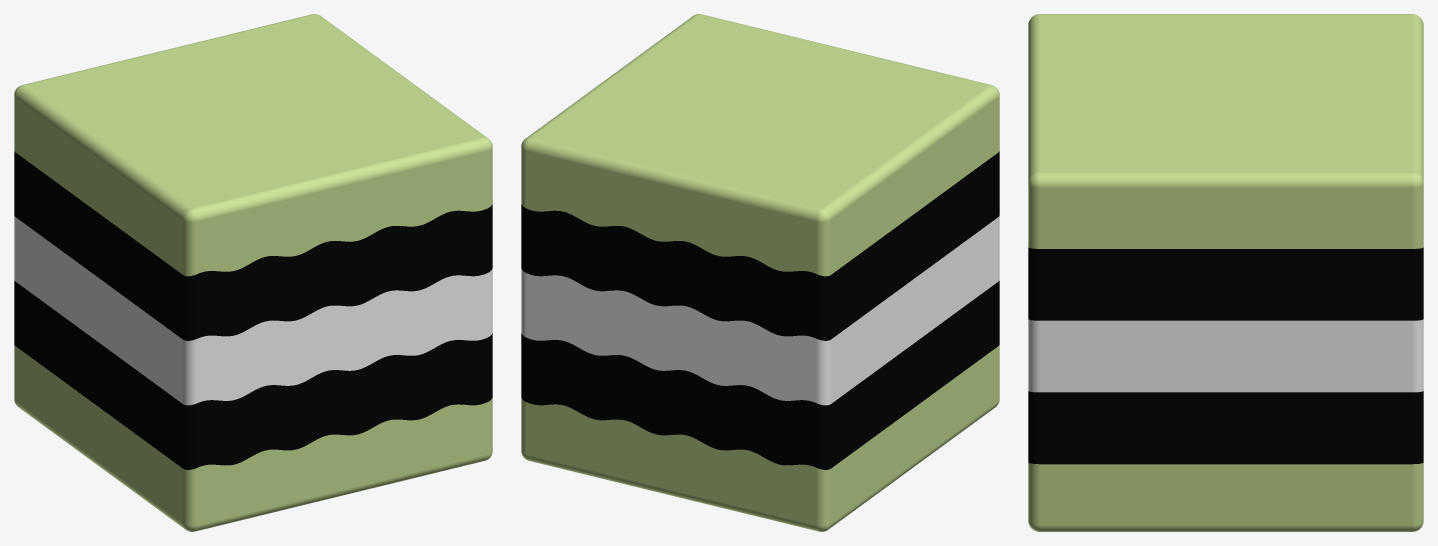
File: liquorice_allsort_box_and_lid_100_v7_green.glb
3 renders of one model, left to right at view 1: azimuth 30°, elevation 25°; view 2: azimuth 150°, elevation 25°; view 3: azimuth 270°, elevation 25°, orthographic. The views are drawn at different scales.
Visible parts, largest first — view 1: liquorice_allsort_box_and_lid_100_v7_5, liquorice_allsort_box_and_lid_100_v7_4, liquorice_allsort_box_and_lid_100_v7_2, liquorice_allsort_box_and_lid_100_v7_3, liquorice_allsort_box_and_lid_100_v7_1; view 2: liquorice_allsort_box_and_lid_100_v7_5, liquorice_allsort_box_and_lid_100_v7_4, liquorice_allsort_box_and_lid_100_v7_2, liquorice_allsort_box_and_lid_100_v7_3, liquorice_allsort_box_and_lid_100_v7_1; view 3: liquorice_allsort_box_and_lid_100_v7_5, liquorice_allsort_box_and_lid_100_v7_3, liquorice_allsort_box_and_lid_100_v7_2, liquorice_allsort_box_and_lid_100_v7_4, liquorice_allsort_box_and_lid_100_v7_1.
Part boxes in pixels (x1=…): liquorice_allsort_box_and_lid_100_v7_5: x1=14, y1=14, x2=492, y2=276; liquorice_allsort_box_and_lid_100_v7_4: x1=14, y1=151, x2=492, y2=340; liquorice_allsort_box_and_lid_100_v7_2: x1=14, y1=280, x2=492, y2=469; liquorice_allsort_box_and_lid_100_v7_3: x1=14, y1=216, x2=492, y2=405; liquorice_allsort_box_and_lid_100_v7_1: x1=14, y1=345, x2=492, y2=531; liquorice_allsort_box_and_lid_100_v7_5: x1=521, y1=14, x2=999, y2=276; liquorice_allsort_box_and_lid_100_v7_4: x1=521, y1=151, x2=999, y2=340; liquorice_allsort_box_and_lid_100_v7_2: x1=521, y1=280, x2=999, y2=469; liquorice_allsort_box_and_lid_100_v7_3: x1=521, y1=216, x2=999, y2=405; liquorice_allsort_box_and_lid_100_v7_1: x1=521, y1=345, x2=999, y2=531; liquorice_allsort_box_and_lid_100_v7_5: x1=1028, y1=14, x2=1423, y2=248; liquorice_allsort_box_and_lid_100_v7_3: x1=1028, y1=319, x2=1423, y2=392; liquorice_allsort_box_and_lid_100_v7_2: x1=1028, y1=391, x2=1423, y2=464; liquorice_allsort_box_and_lid_100_v7_4: x1=1028, y1=247, x2=1423, y2=320; liquorice_allsort_box_and_lid_100_v7_1: x1=1028, y1=463, x2=1423, y2=531.
Bounding box in the file's own units: 10 × 10 × 10.
